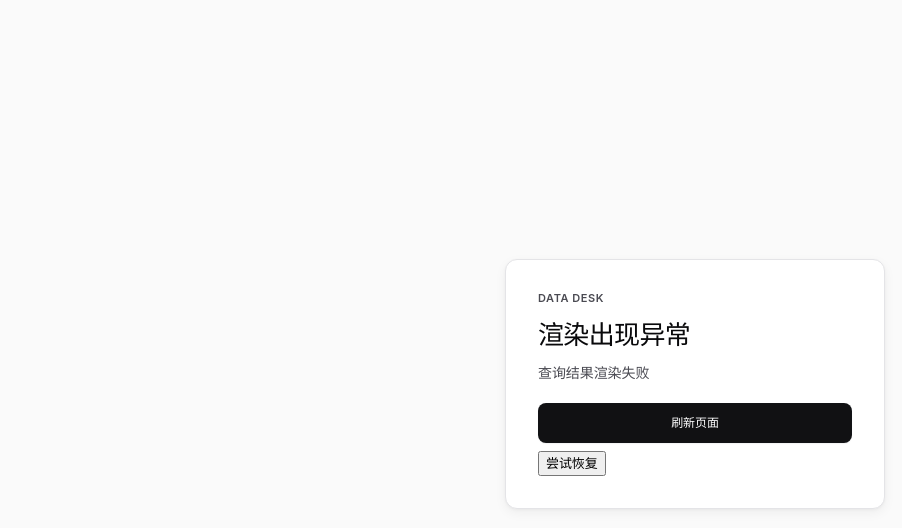
Test: ErrorBoundary 渲染兜底 › 「尝试恢复」清空错误并重挂子树（修复后正常显示）
Expected: the text "已恢复的内容" is not shown
Click the button "尝试恢复": (572, 464) x1=538 y1=451 x2=606 y2=476
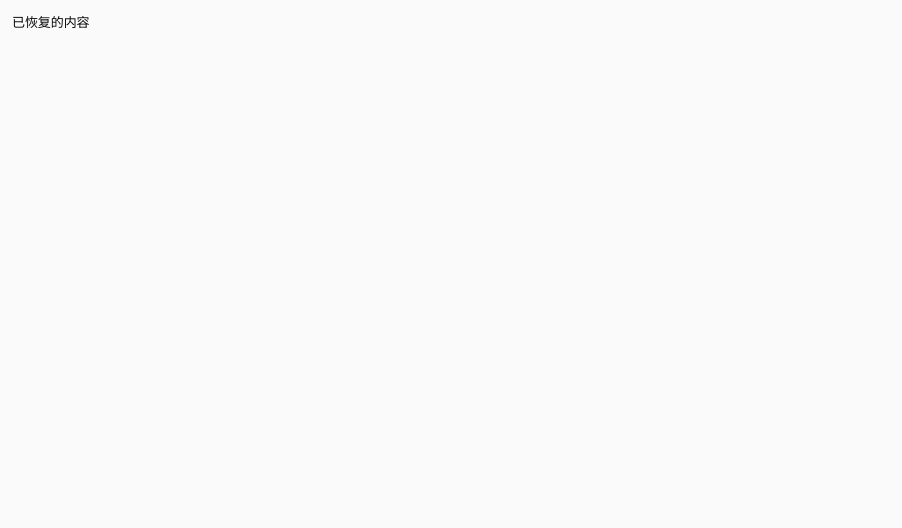
Expected: the text "已恢复的内容" is shown, x1=12 y1=14 x2=90 y2=30
Expected: the heading "渲染出现异常" is gone
